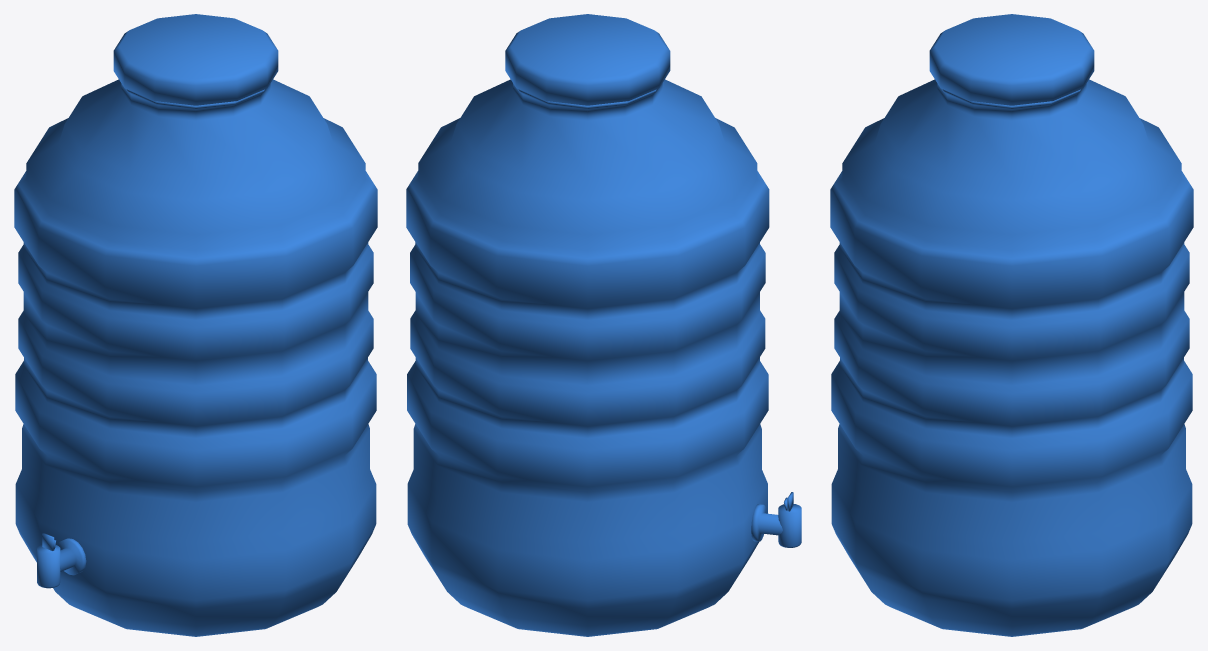
The model's file is binh_nuoc_20l.fbx.
3 views of the same model, side by side, from view 1: azimuth 30°, elevation 25°; view 2: azimuth 150°, elevation 25°; view 3: azimuth 270°, elevation 25° (orthographic).
Parts seen in each view (by area): view 1: binh_nuoc; view 2: binh_nuoc; view 3: binh_nuoc.
Part boxes in pixels (bbox=[...]): binh_nuoc: bbox=[14, 14, 377, 636]; binh_nuoc: bbox=[406, 14, 801, 636]; binh_nuoc: bbox=[830, 14, 1193, 636].
Size of the model in its own units: 72.08 by 110 by 66.24.
